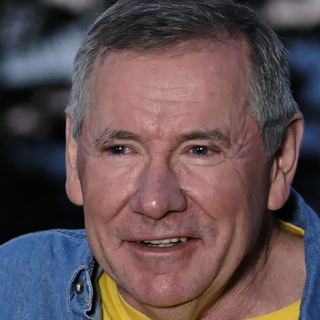eye: (94, 139, 146, 164), (172, 138, 225, 162)
